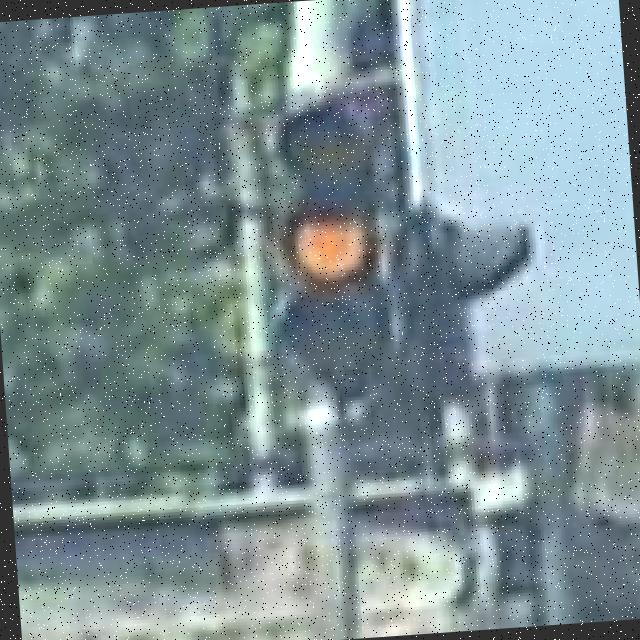Zolte swiatlo: (270, 94, 394, 370)
